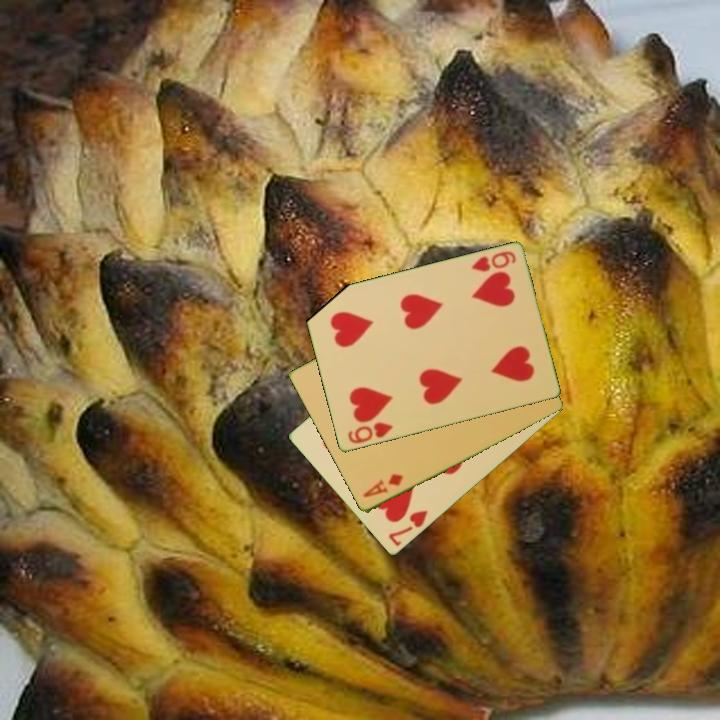6h: (344, 419, 395, 447), (468, 248, 519, 275)
7h: (385, 507, 431, 550)
Ad: (359, 470, 406, 501)
